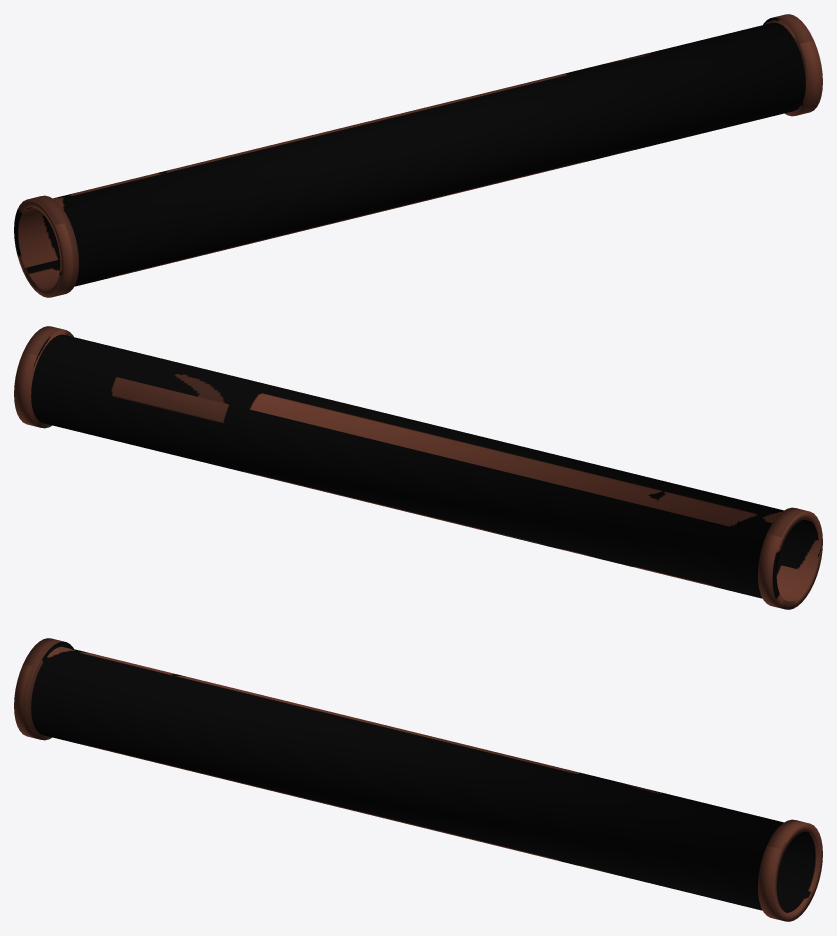
File: Pipe 500mm WE.glb
3 renders of one model, top to bottom at view 1: azimuth 30°, elevation 25°; view 2: azimuth 150°, elevation 25°; view 3: azimuth 330°, elevation 25°, orthographic.
Parts seen in each view (by area): view 1: Pipe 500mm WE; view 2: Pipe 500mm WE; view 3: Pipe 500mm WE.
Part boxes in pixels (box(x1,y1,x2,y2)): Pipe 500mm WE: box(14, 14, 822, 297); Pipe 500mm WE: box(14, 326, 822, 609); Pipe 500mm WE: box(14, 638, 822, 921).
Bounding box in the file's own units: 36.99 × 4.27 × 4.27.
1 material, 1 textured.
